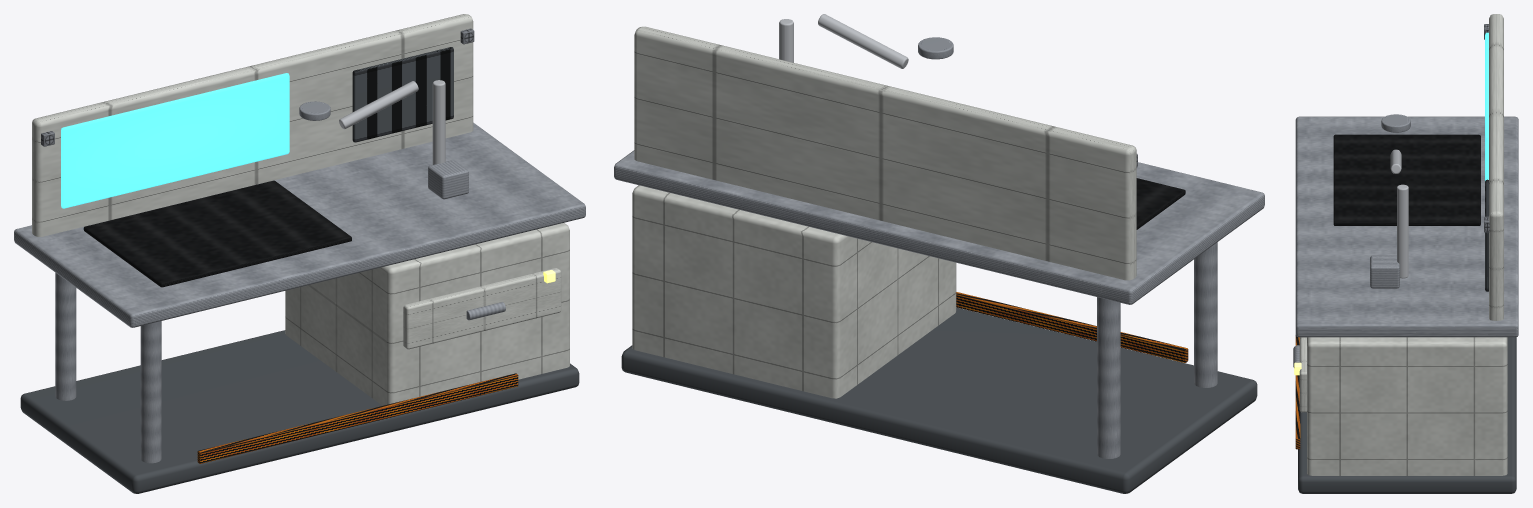
Rendered from room_l1_img2_repair_workbench.glb.
3 views of the same model, side by side, from view 1: azimuth 30°, elevation 25°; view 2: azimuth 150°, elevation 25°; view 3: azimuth 270°, elevation 25° (orthographic). The views are drawn at different scales.
Parts seen in each view (by area): view 1: worktop_steel_slab, contact_shadow_plinth, enamel_under_cabinet, rear_diagnostic_riser, rear_diagnostic_screen, worktop_rubber_mat, front_drawer, vent_grille_panel, hazard_toe_strip, steel_leg, steel_leg.001, arm_pivot_base (+2 smaller); view 2: rear_diagnostic_riser, contact_shadow_plinth, enamel_under_cabinet, worktop_steel_slab, steel_leg.001, hazard_toe_strip, steel_leg, worktop_rubber_mat, arm_upper, arm_inspection_lamp_bezel; view 3: worktop_steel_slab, enamel_under_cabinet, worktop_rubber_mat, contact_shadow_plinth, rear_diagnostic_riser, arm_lower, arm_pivot_base, rear_diagnostic_screen, front_drawer, arm_inspection_lamp_bezel, hazard_toe_strip, vent_grille_panel (+1 smaller).
Boxes of the visible parts, x1,y1,x2,y2 form: worktop_steel_slab: (14, 122, 585, 327); contact_shadow_plinth: (20, 330, 579, 493); enamel_under_cabinet: (285, 223, 569, 405); rear_diagnostic_riser: (32, 14, 473, 236); rear_diagnostic_screen: (61, 73, 289, 208); worktop_rubber_mat: (83, 180, 351, 287); front_drawer: (403, 268, 561, 349); vent_grille_panel: (352, 47, 453, 142); hazard_toe_strip: (197, 373, 518, 463); steel_leg: (140, 321, 161, 463); steel_leg.001: (55, 272, 76, 400); arm_pivot_base: (428, 160, 468, 199); rear_diagnostic_riser: (634, 26, 1136, 280); contact_shadow_plinth: (621, 307, 1257, 493); enamel_under_cabinet: (632, 185, 956, 398); worktop_steel_slab: (614, 150, 1264, 304); steel_leg.001: (1097, 297, 1120, 458); hazard_toe_strip: (956, 292, 1188, 362); steel_leg: (1194, 242, 1217, 387); worktop_rubber_mat: (1136, 178, 1185, 229); arm_upper: (818, 14, 908, 68); arm_inspection_lamp_bezel: (918, 37, 953, 59); worktop_steel_slab: (1295, 116, 1518, 337); enamel_under_cabinet: (1307, 337, 1507, 475); worktop_rubber_mat: (1333, 134, 1480, 225); contact_shadow_plinth: (1298, 337, 1516, 493); rear_diagnostic_riser: (1489, 14, 1503, 320); arm_lower: (1397, 184, 1408, 278); arm_pivot_base: (1370, 255, 1399, 288); rear_diagnostic_screen: (1485, 32, 1488, 180); front_drawer: (1299, 337, 1306, 412); arm_inspection_lamp_bezel: (1381, 114, 1410, 132); hazard_toe_strip: (1295, 335, 1300, 449); vent_grille_panel: (1485, 179, 1488, 291).
Size of the model in its own units: 2 by 1.25 by 0.9103.
11 materials, 8 textured.
